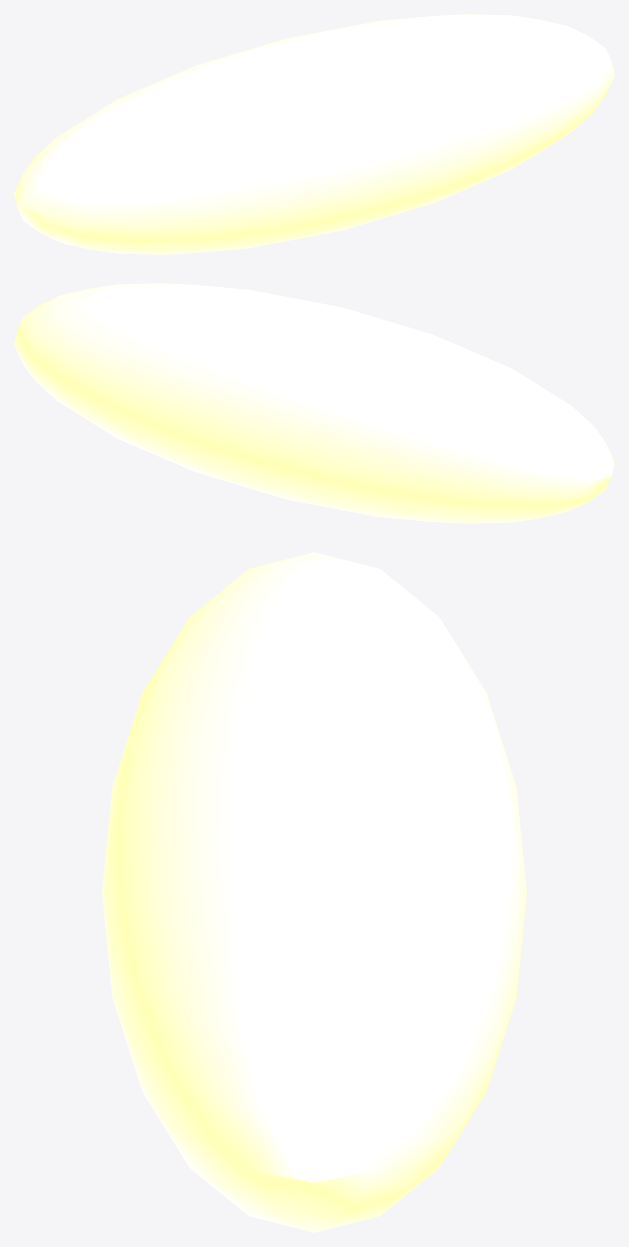
Rendered from Flash.glb.
3 renders of one model, top to bottom at view 1: azimuth 30°, elevation 25°; view 2: azimuth 150°, elevation 25°; view 3: azimuth 270°, elevation 25°, orthographic. The views are drawn at different scales.
Parts seen in each view (by area): view 1: world; view 2: world; view 3: world.
Part boxes in pixels (bbox=[...]): world: bbox=[14, 14, 614, 254]; world: bbox=[14, 283, 614, 523]; world: bbox=[102, 552, 526, 1232].
Bounding box in the file's own units: 0.84 × 0.24 × 0.26.
